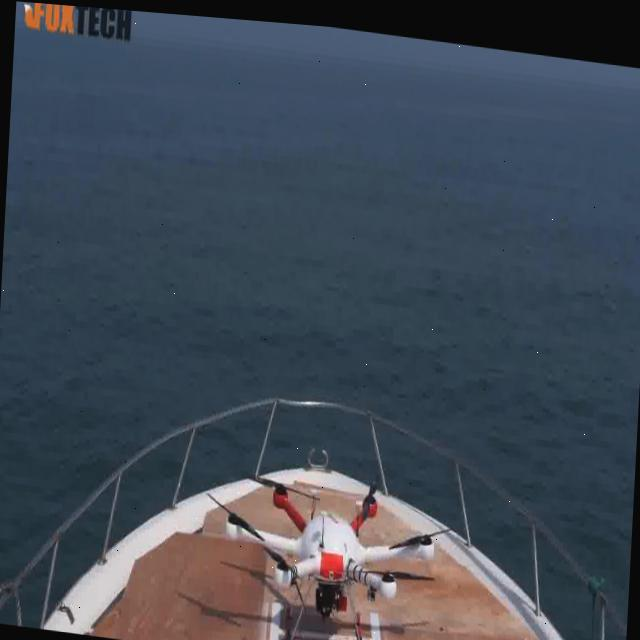drone: (0, 379, 635, 640)
